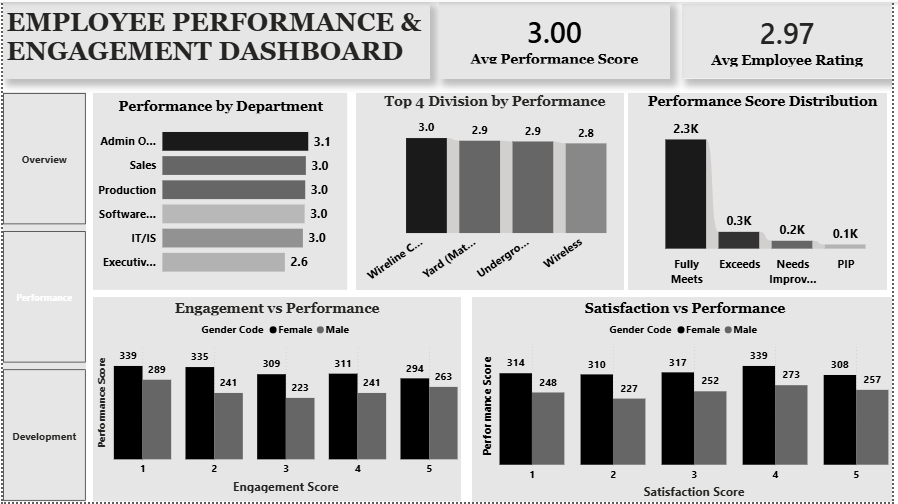

The page's visual inventory and layout, read from the dashboard file:
{"tool":"powerbi","page":{"name":"Performance","canvas":[1280,720],"ordinal":1},"visuals":[{"type":"shape","box":[0,0,614.8,110.9],"z":0},{"type":"shape","box":[977.6,3.4,302.4,107.5],"z":1000},{"type":"textbox","box":[0,475.4,586.2,79],"z":2000},{"type":"textbox","box":[0,2.9,614.9,105.1],"z":3000},{"type":"shape","box":[628.2,0,332.6,110.9],"z":4000},{"type":"cardVisual","fields":{"Data":["Cleaned Dataset.Avg Performance Score"]},"box":[637.9,0,312.5,106.6],"z":5000},{"type":"cardVisual","fields":{"Data":["Cleaned Dataset.Avg Employee Rating"]},"box":[986.4,0,285.1,110.9],"z":6000},{"type":"shape","box":[129.4,130.8,366.1,283.5],"z":7000},{"type":"shape","box":[508.3,131,385.9,283.7],"z":8000},{"type":"clusteredBarChart","title":"Performance by Department","fields":{"Category":["Cleaned Dataset.Department Type"],"Y":["Cleaned Dataset.Avg Performance Score"]},"box":[119.7,137.6,388.1,269.8],"z":9000},{"type":"columnChart","title":"Top 4 Division by Performance","fields":{"Y":["Cleaned Dataset.Avg Performance Score"],"Category":["Cleaned Dataset.Division"]},"box":[509.8,131,397.4,283.7],"z":10000},{"type":"shape","box":[900,131,373,283.7],"z":11000},{"type":"shape","box":[129.4,425.3,529.9,294.5],"z":12000},{"type":"shape","box":[675.4,424.8,604.8,295.2],"z":13000},{"type":"clusteredColumnChart","title":"Engagement vs Performance","fields":{"Y":["CountNonNull(Cleaned Dataset.Performance Score)"],"Category":["Cleaned Dataset.Engagement Score"],"Series":["Cleaned Dataset.Gender Code"]},"box":[128.9,429.3,530.3,283.1],"z":14000},{"type":"clusteredColumnChart","title":"Satisfaction vs Performance","fields":{"Category":["Cleaned Dataset.Satisfaction Score"],"Series":["Cleaned Dataset.Gender Code"],"Y":["CountNonNull(Cleaned Dataset.Performance Score)"]},"box":[684,429.1,596.2,290.9],"z":15000},{"type":"columnChart","title":"Performance Score Distribution","fields":{"Y":["CountNonNull(Cleaned Dataset.Employee ID)"],"Category":["Cleaned Dataset.Performance Score"]},"box":[907.2,131,373,285.1],"z":16000},{"type":"shape","box":[0,130.3,119.6,590.2],"z":17000},{"type":"pageNavigator","box":[0,130.9,119.1,589.1],"z":18000}]}

Visuals, with their boxes in screenshot pixels (x1, y1, x2, y2), scaled from the page's 1280x720 canvas onto the 898x504 screenshot:
shape: <bbox>0, 0, 431, 78</bbox>
shape: <bbox>686, 2, 897, 78</bbox>
textbox: <bbox>0, 333, 411, 388</bbox>
textbox: <bbox>0, 2, 431, 76</bbox>
shape: <bbox>441, 0, 674, 78</bbox>
cardVisual - Cleaned Dataset.Avg Performance Score: <bbox>448, 0, 667, 75</bbox>
cardVisual - Cleaned Dataset.Avg Employee Rating: <bbox>692, 0, 892, 78</bbox>
shape: <bbox>91, 92, 348, 290</bbox>
shape: <bbox>357, 92, 627, 290</bbox>
"Performance by Department" clusteredBarChart: <bbox>84, 96, 356, 285</bbox>
"Top 4 Division by Performance" columnChart: <bbox>358, 92, 636, 290</bbox>
shape: <bbox>631, 92, 893, 290</bbox>
shape: <bbox>91, 298, 463, 503</bbox>
shape: <bbox>474, 297, 897, 503</bbox>
"Engagement vs Performance" clusteredColumnChart: <bbox>90, 301, 462, 499</bbox>
"Satisfaction vs Performance" clusteredColumnChart: <bbox>480, 300, 897, 503</bbox>
"Performance Score Distribution" columnChart: <bbox>636, 92, 897, 291</bbox>
shape: <bbox>0, 91, 84, 503</bbox>
pageNavigator: <bbox>0, 92, 84, 503</bbox>
